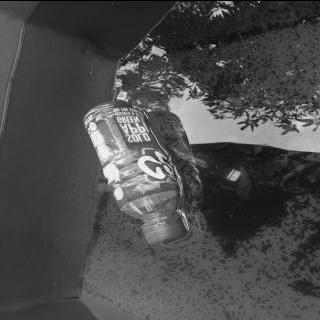bottle: (80, 98, 190, 244)
